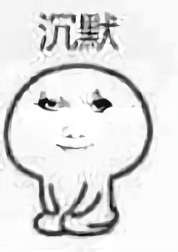dragon: (34, 90, 116, 156)
